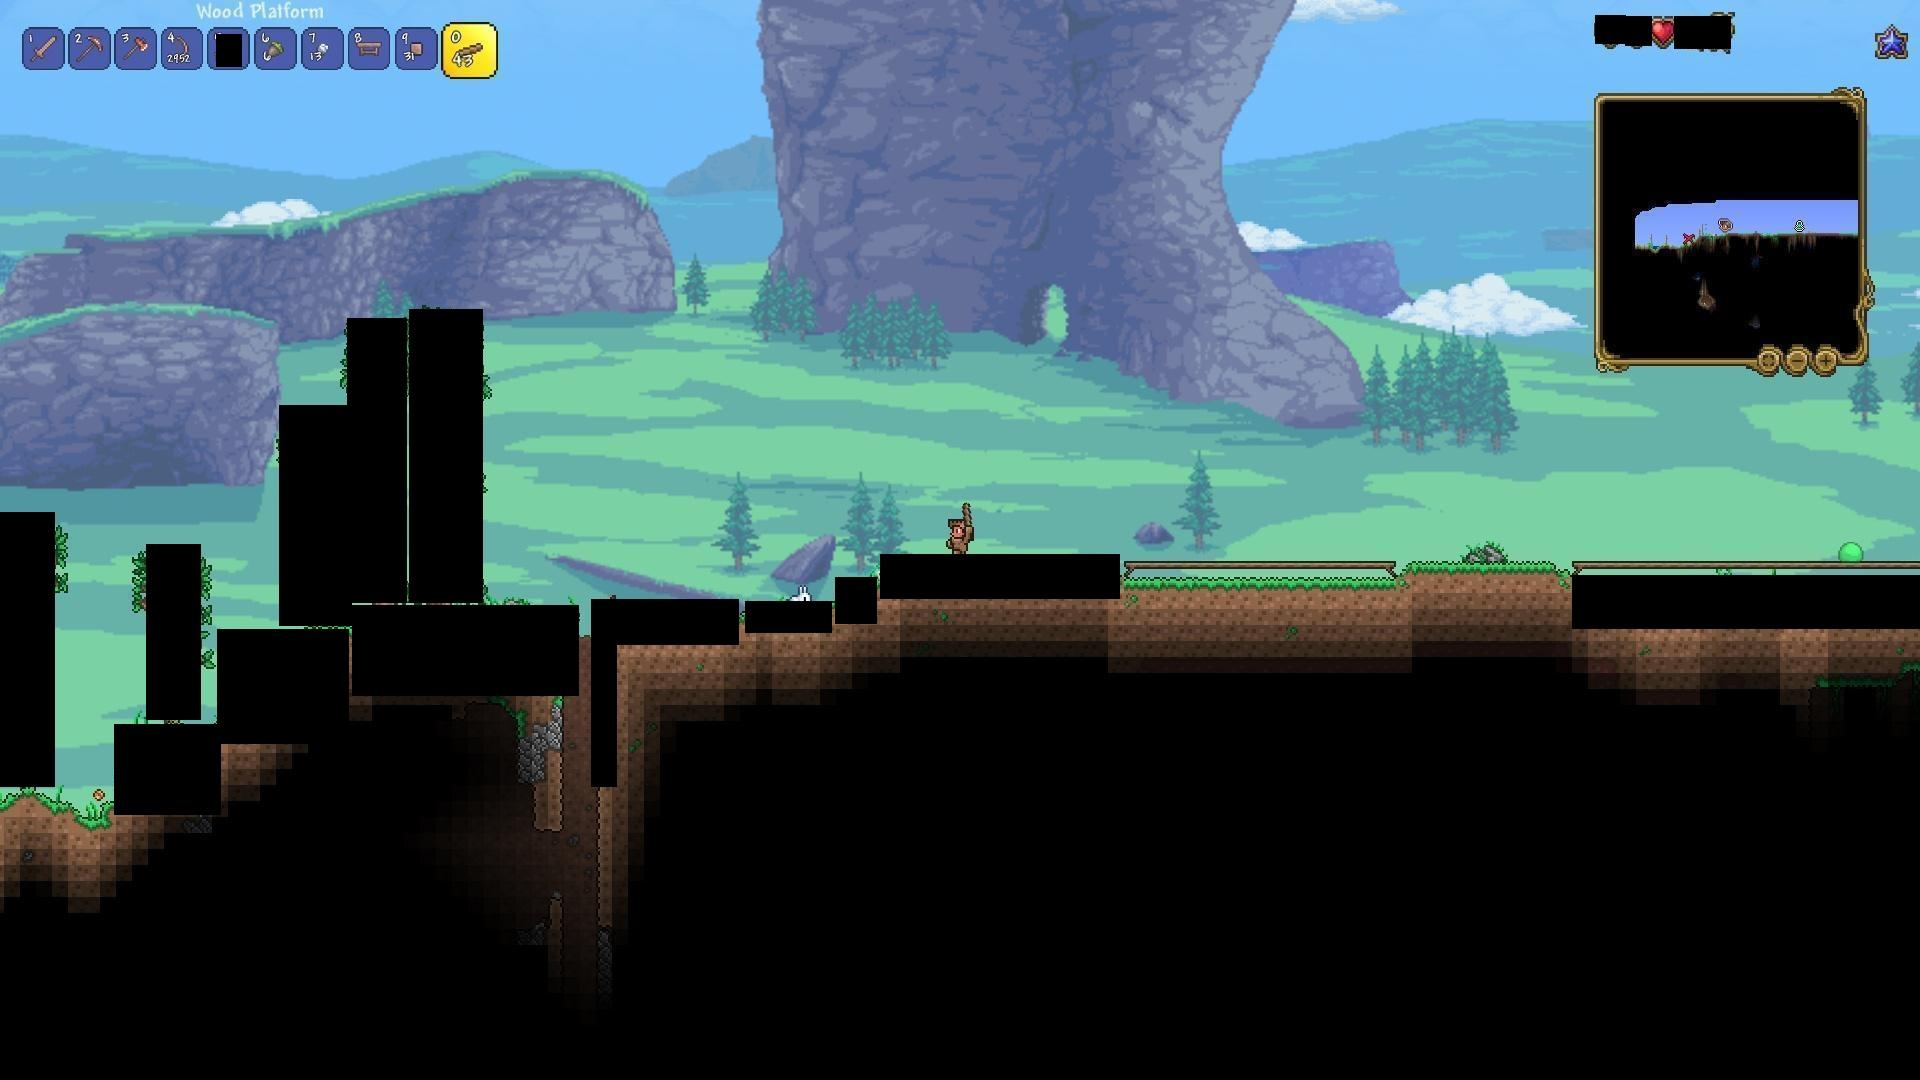dirt: (1121, 560, 1403, 617), (1402, 554, 1567, 597), (0, 794, 115, 828)
heart: (1648, 17, 1676, 47)
slime: (1836, 538, 1863, 566)
workbench: (349, 37, 386, 62)
